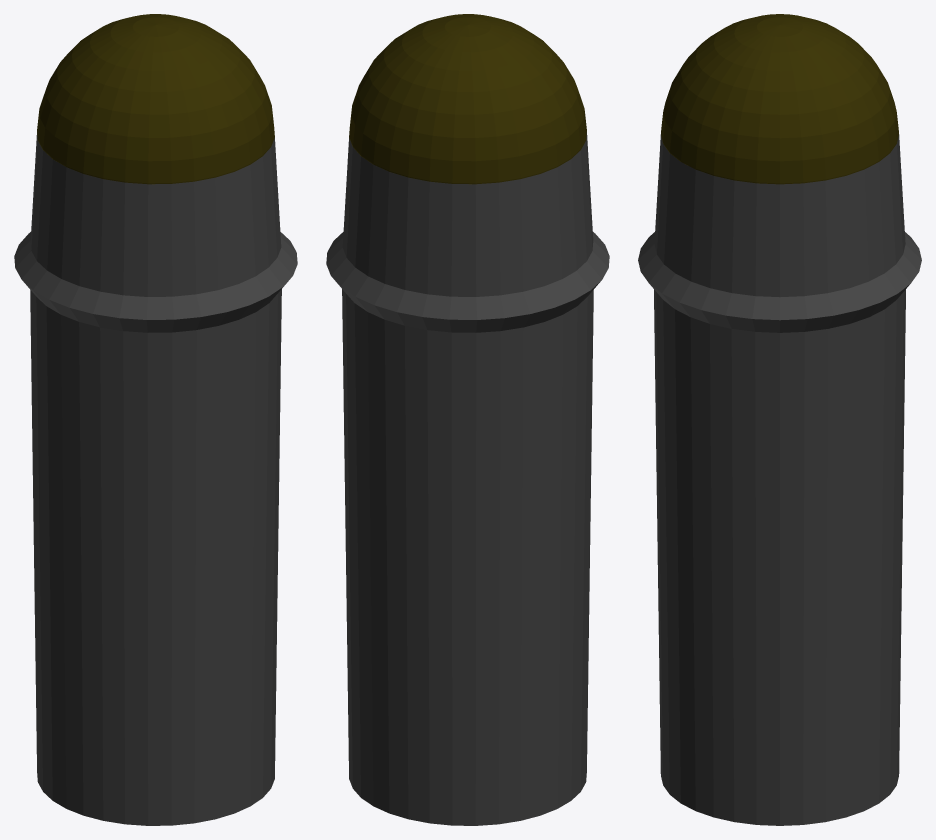
Rendered from silo.fbx.
The picture shows the model from 3 angles, left to right: view 1: azimuth 30°, elevation 25°; view 2: azimuth 150°, elevation 25°; view 3: azimuth 270°, elevation 25°; orthographic projection.
Parts seen in each view (by area): view 1: Cylinder; view 2: Cylinder; view 3: Cylinder.
Part boxes in pixels (x1,y1,x2,y2): Cylinder: (14,14,297,825); Cylinder: (326,14,609,825); Cylinder: (638,14,921,825).
Bounding box in the file's own units: 238 × 695 × 238.
